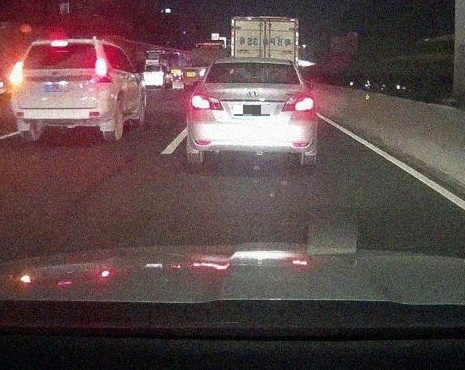L_light: (191, 93, 224, 111), (10, 60, 24, 85)
R_light: (280, 93, 313, 111), (95, 59, 112, 84)
T_light: (51, 40, 69, 48), (243, 61, 263, 66)
night-left: (9, 37, 116, 141)
night-no: (188, 56, 315, 166)
plate_1: (234, 105, 270, 116)
